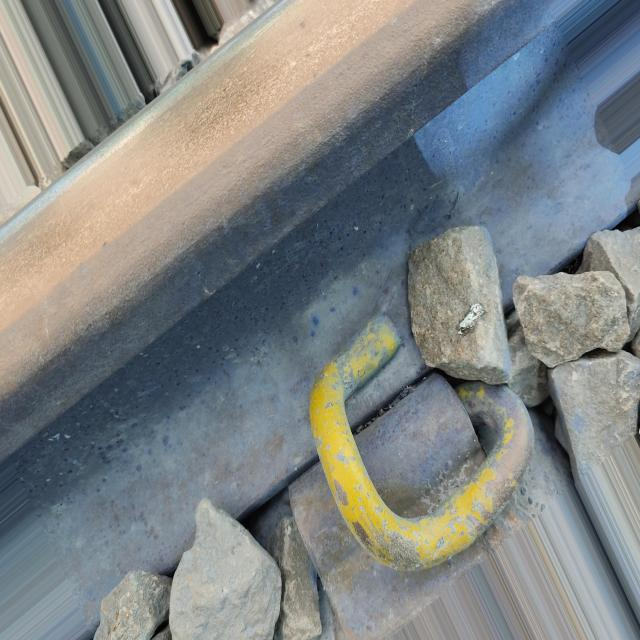Good Fasteners: (270, 304, 542, 612)
